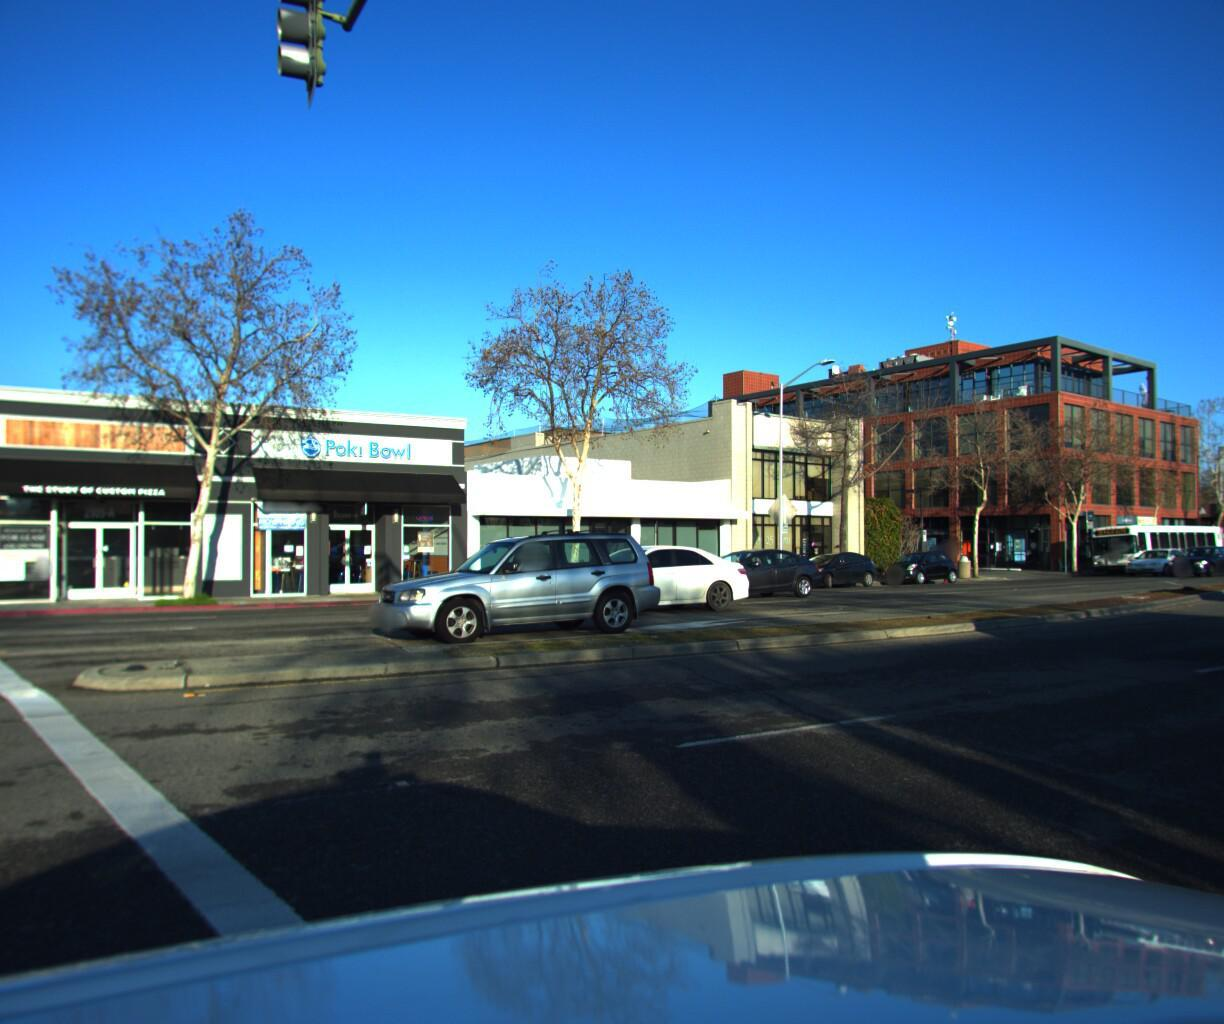bus: (1078, 518, 1224, 564)
car: (369, 526, 684, 657), (535, 535, 757, 618), (659, 544, 824, 597), (774, 545, 877, 588), (871, 545, 954, 582), (1153, 534, 1224, 569), (1114, 538, 1190, 570)
